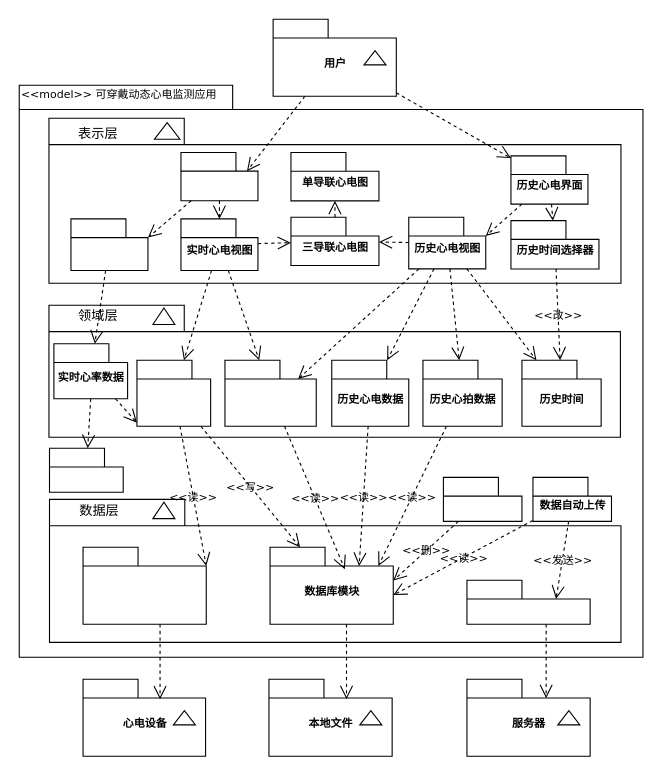
Image size: 662x776. Some labels were removed from this diagram. The box of each missing label's shape, as (x1, y1, x2, y2) in pixels:
Pan-T 算法: (48, 447, 123, 492)
实时心率视图: (70, 218, 148, 270)
实时心电数据: (136, 359, 211, 426)
实时心电界面: (180, 151, 258, 201)
心电图相关设置: (224, 359, 316, 426)
心电设备模块: (82, 546, 206, 624)
数据自动清理: (442, 476, 522, 521)
服务器模块: (466, 579, 590, 624)
